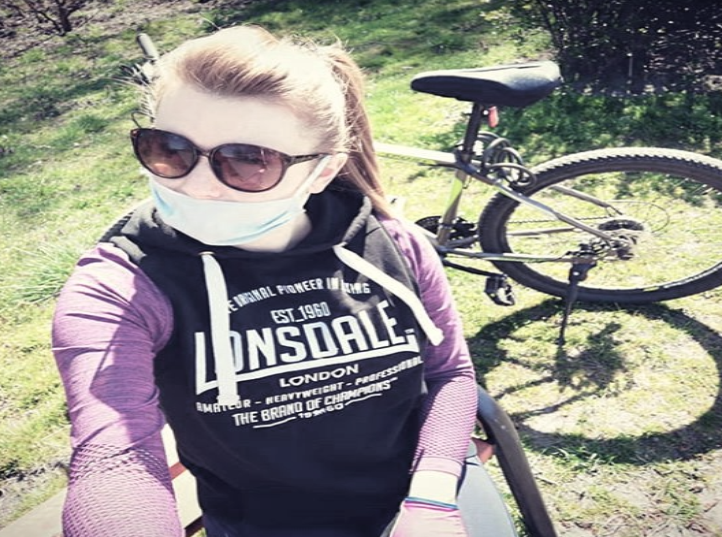mask_weared_incorrect: (124, 30, 359, 249)
